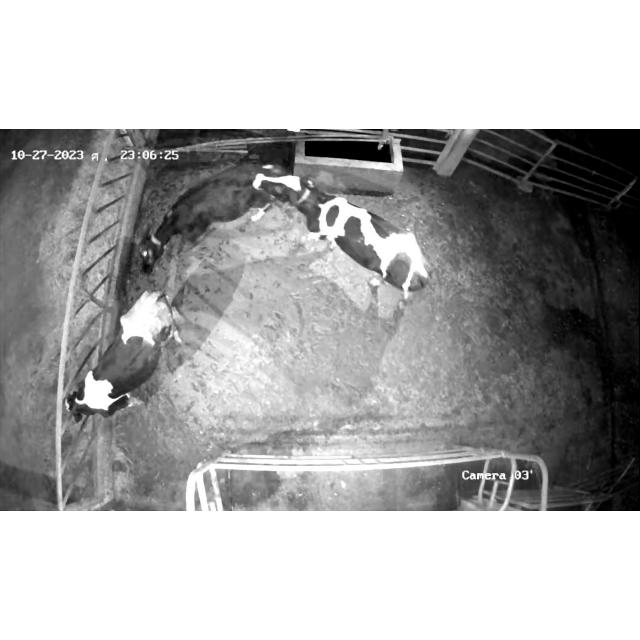propping: (232, 158, 330, 218)
